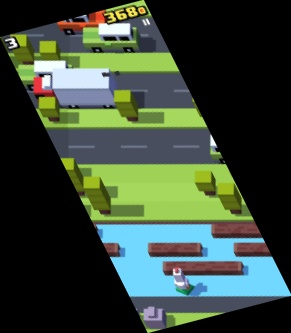car: (81, 23, 142, 52), (210, 134, 266, 164), (17, 61, 73, 89), (57, 9, 107, 35)
duck: (171, 267, 192, 293)
lilypad: (174, 279, 194, 296)
log: (163, 261, 245, 275), (211, 221, 275, 237), (233, 243, 287, 257), (146, 242, 202, 255), (87, 243, 119, 257), (68, 223, 100, 236)
rock: (144, 306, 167, 329)
tree: (83, 176, 113, 215), (58, 156, 85, 195), (191, 94, 218, 127), (114, 90, 140, 123), (9, 33, 35, 64), (218, 183, 243, 214), (194, 170, 217, 196), (38, 96, 61, 121), (39, 41, 62, 66)
truck: (33, 68, 120, 109)
water: (84, 223, 291, 296)
